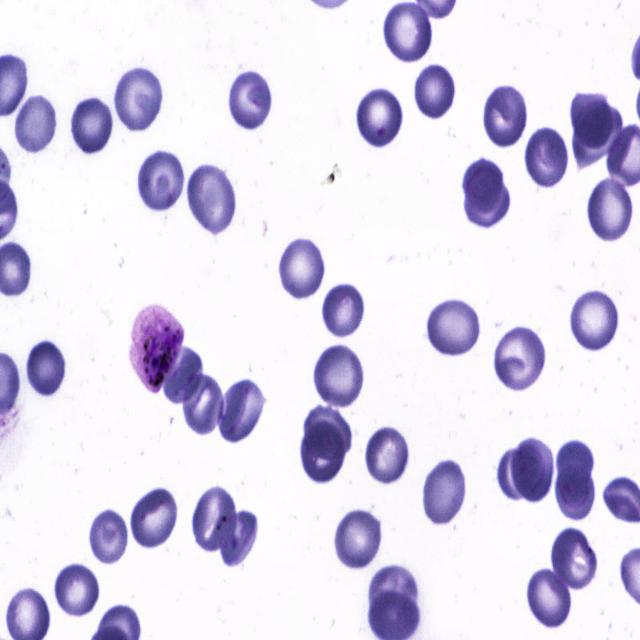red blood cell: (570, 91, 624, 170), (567, 285, 623, 353), (186, 163, 238, 236), (112, 64, 166, 134), (128, 483, 181, 552), (276, 236, 329, 302), (216, 378, 268, 445), (426, 296, 482, 358), (380, 1, 435, 64), (494, 326, 547, 391), (332, 505, 384, 571), (585, 176, 634, 246), (191, 483, 239, 554), (136, 146, 187, 212), (312, 344, 364, 408), (422, 456, 468, 528), (481, 83, 529, 149), (355, 86, 404, 150), (525, 124, 570, 192), (180, 370, 226, 436), (299, 420, 346, 484), (550, 527, 598, 589), (228, 67, 273, 133), (463, 168, 510, 230), (368, 564, 418, 622), (69, 93, 115, 156), (526, 568, 572, 630), (13, 92, 58, 155), (320, 279, 367, 339), (24, 337, 68, 400), (364, 426, 410, 486), (511, 439, 554, 503), (303, 405, 352, 461), (554, 439, 594, 506), (158, 344, 204, 402), (554, 459, 596, 521), (496, 447, 542, 502), (414, 63, 458, 120), (89, 506, 130, 567), (54, 564, 100, 618), (460, 157, 504, 213), (218, 511, 259, 566)
trophozoite: (127, 304, 186, 396)
